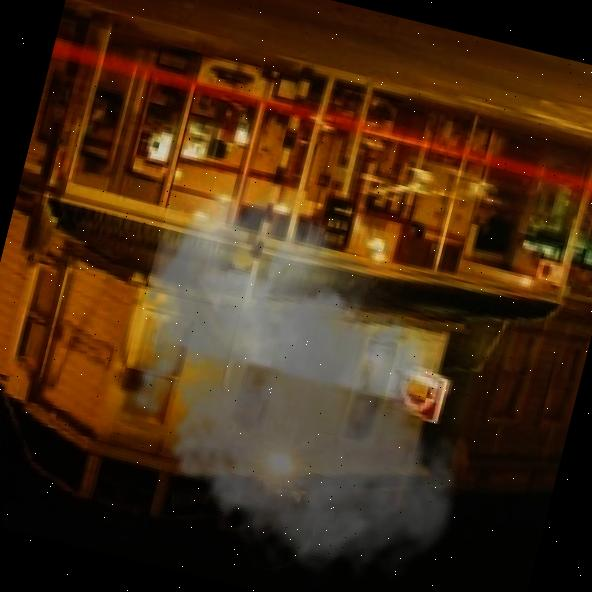smoke: (72, 155, 528, 592)
